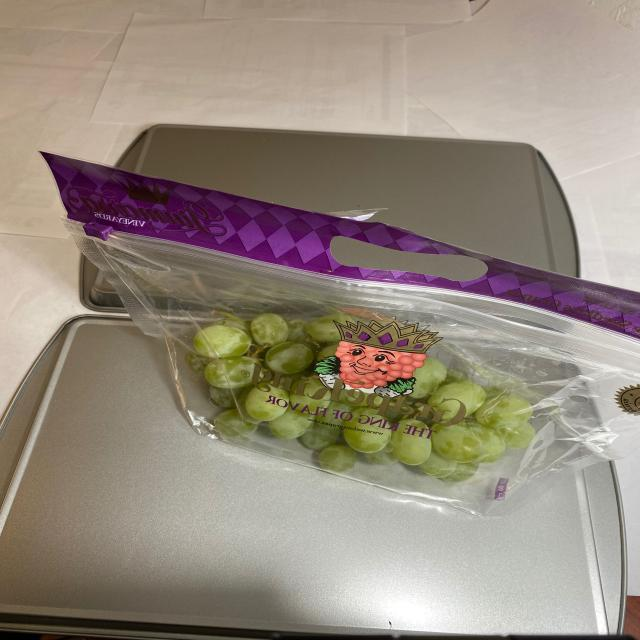grapes: (169, 303, 525, 494)
